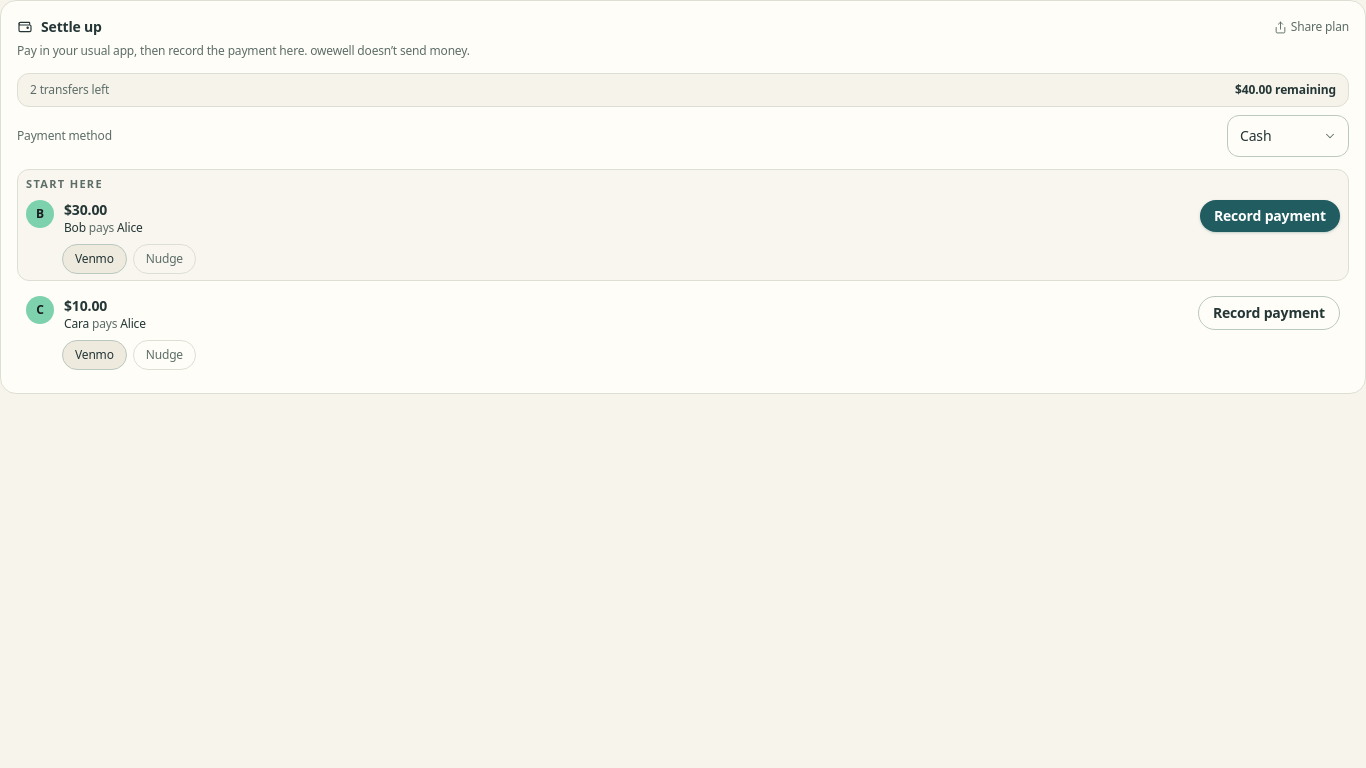
the nudge › opens on the row that was clicked, not every row
This screenshot has width=1366, height=768.
Click the button "Nudge" below "$10.00": (164, 354) [133,340,196,370]
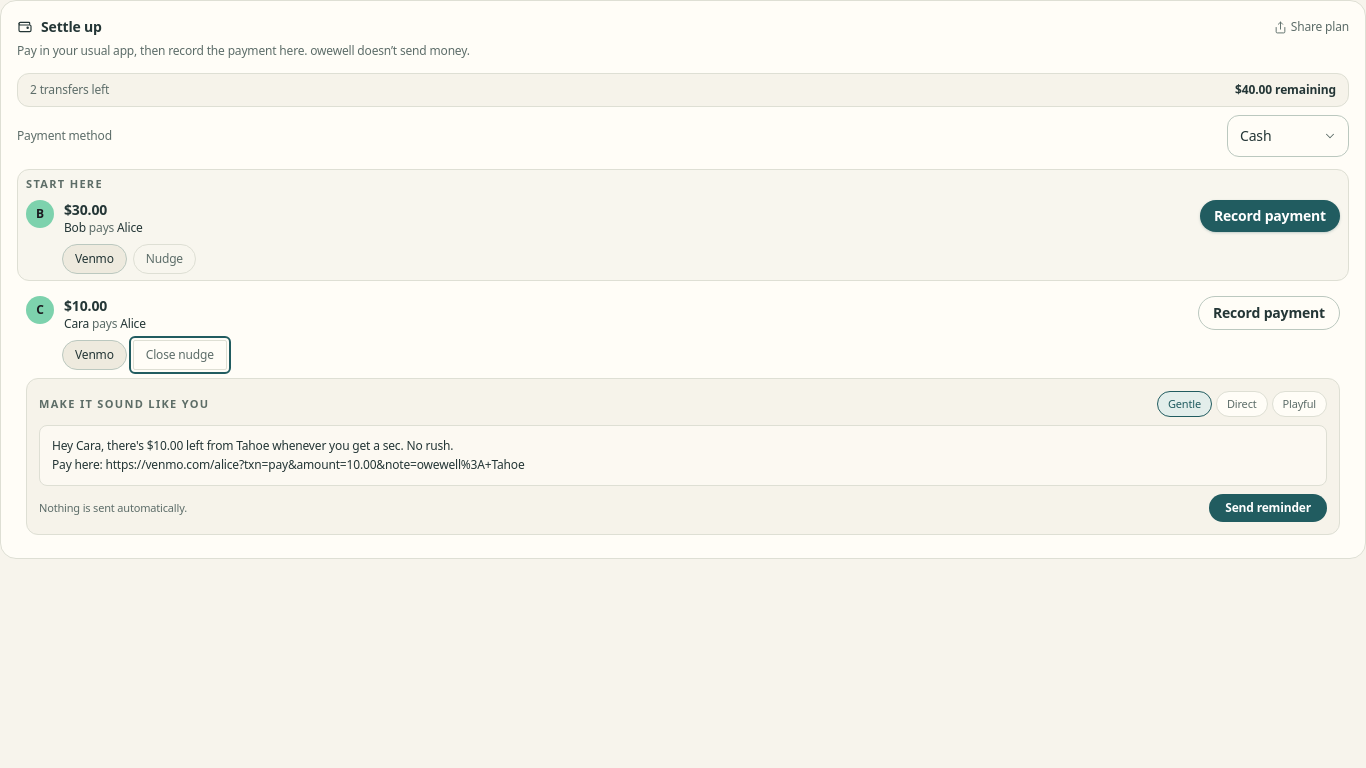
Result: the text "Make it sound like you" is shown at [39,396,210,412]
